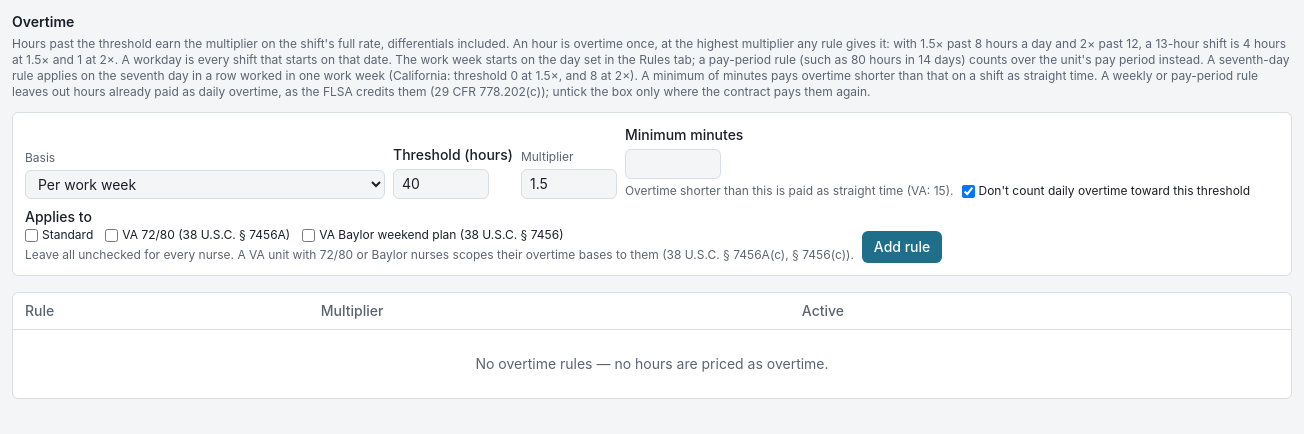
overtime bases in Settings › Pay › offers the extra-day basis and explains its threshold
Select "Workday beyond the scheduled days per week" in the dropdown labelled "Basis": coordinates (205, 184) [25,170,385,199]
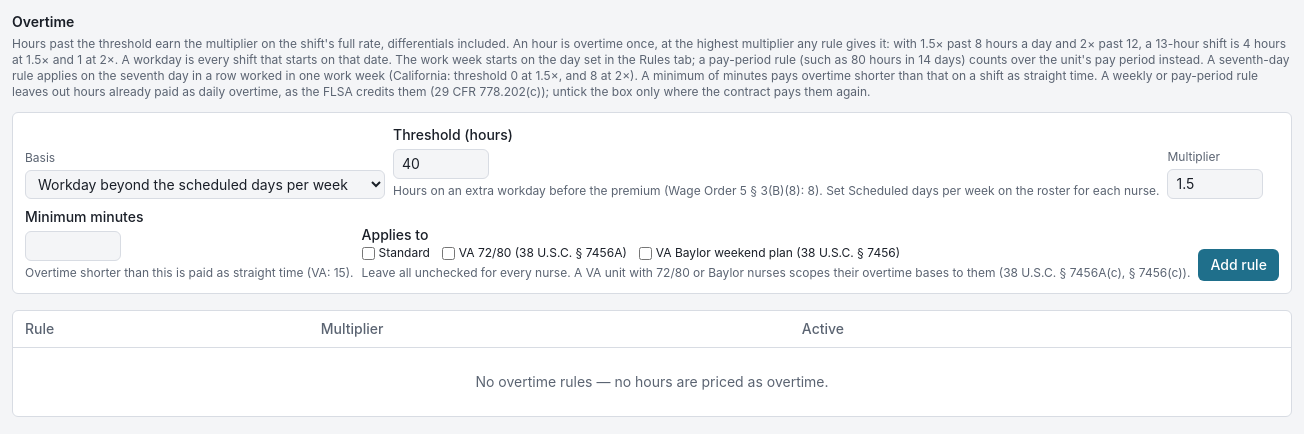
Now the text "Wage Order 5 § 3(B)(8): 8" is shown, box [393,183,1160,198]
Now the label labelled "Don't count daily overtime" is gone
